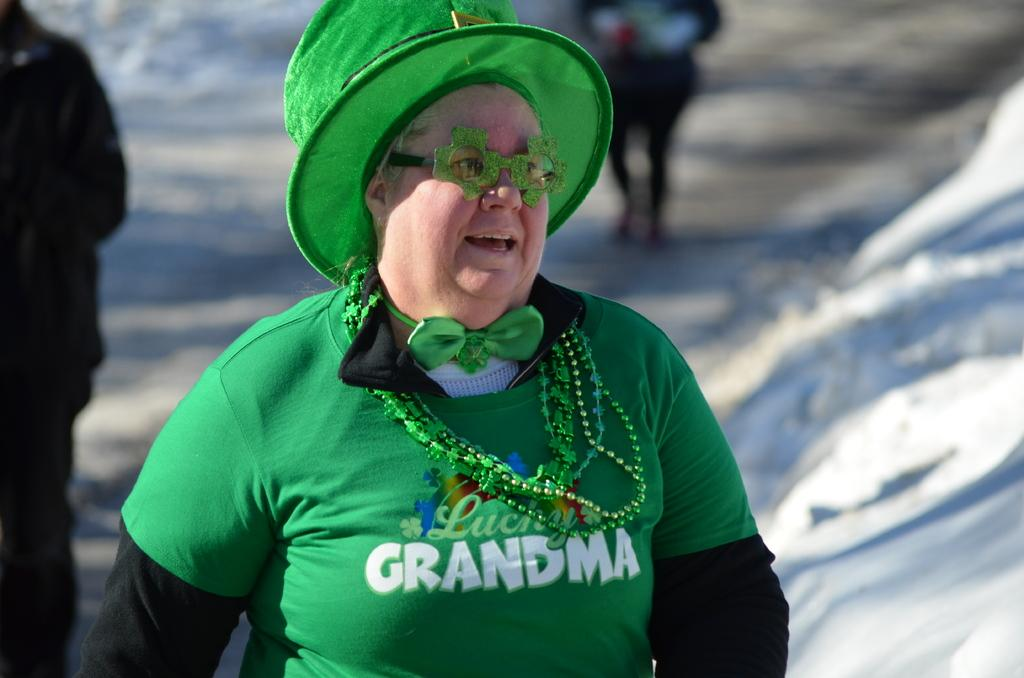Hat: (281, 0, 618, 290)
